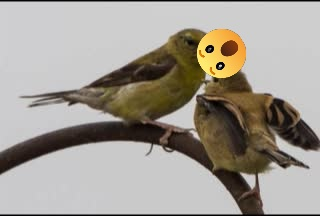wow: (197, 29, 246, 78)
